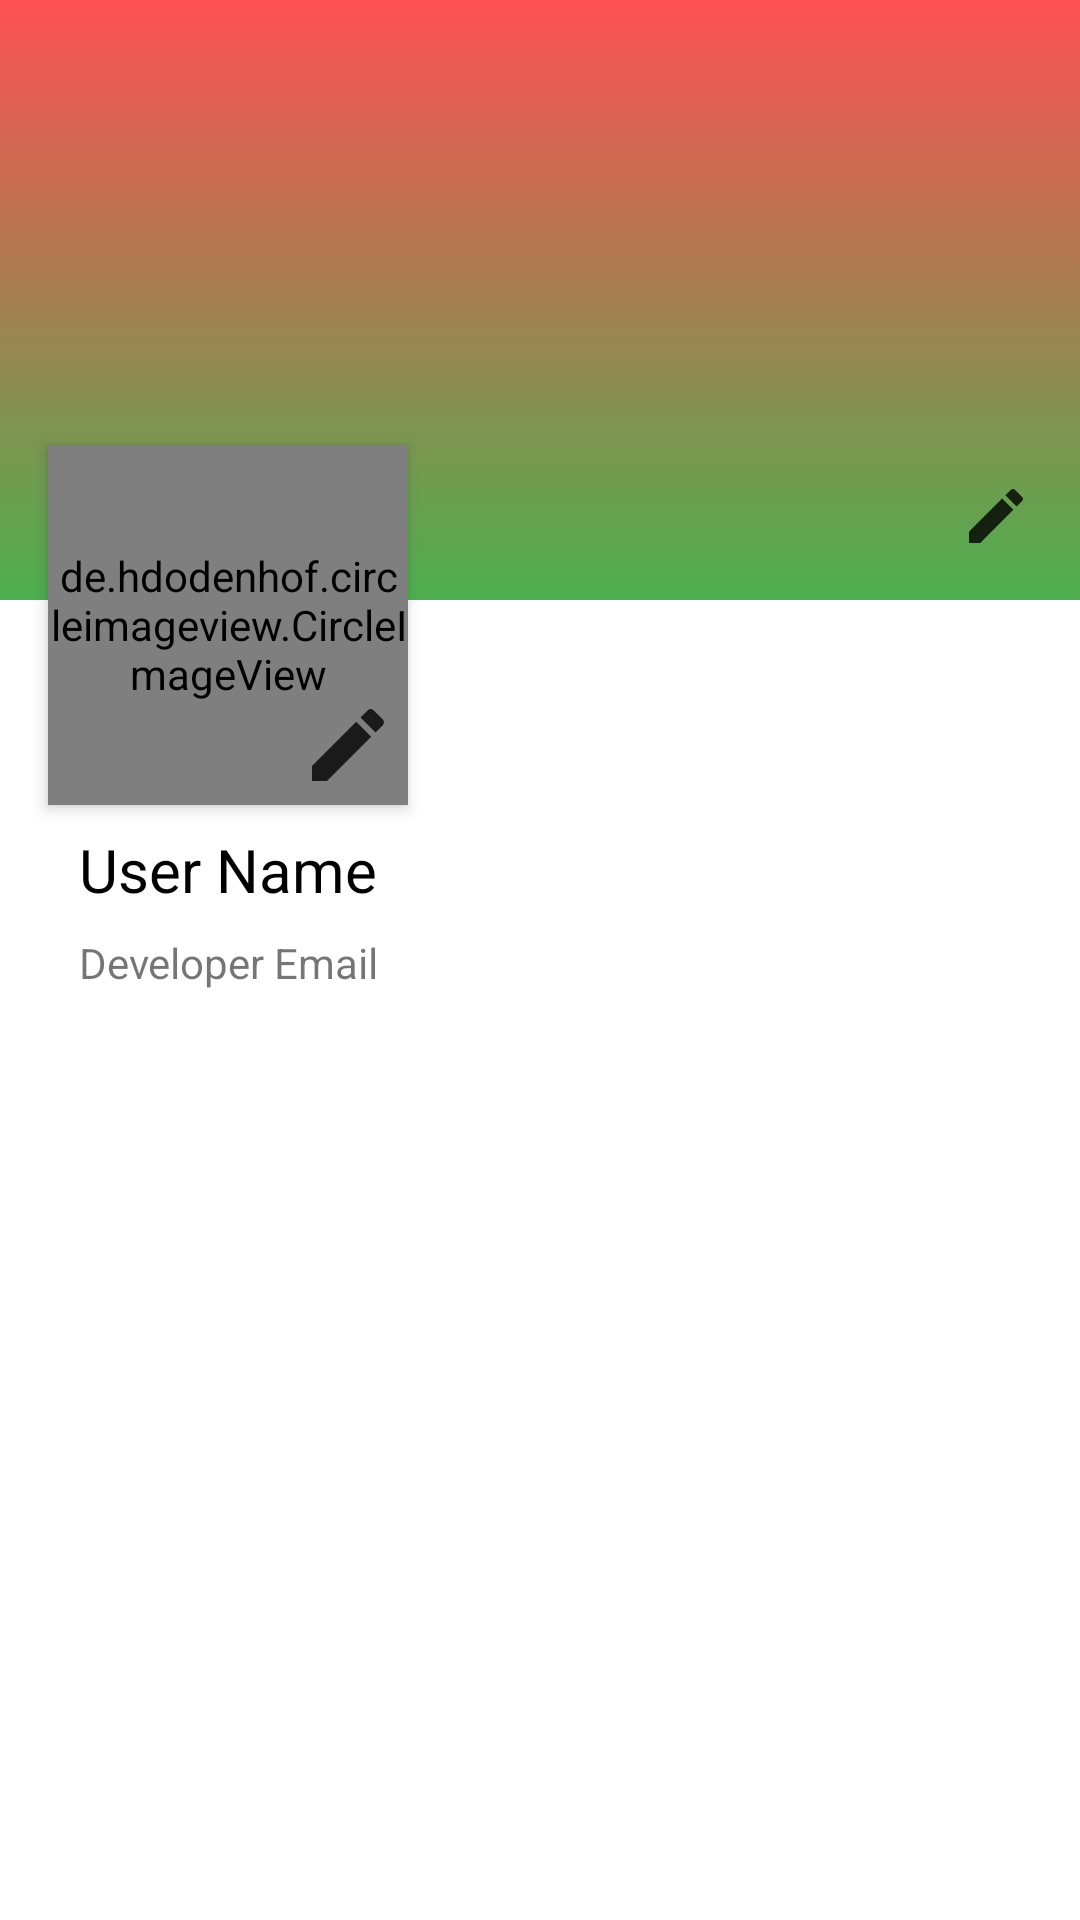

Icon click points for this 1080px×1920px phone screenshot, format point (x, y):
edit: point (996, 511), point (348, 745)
